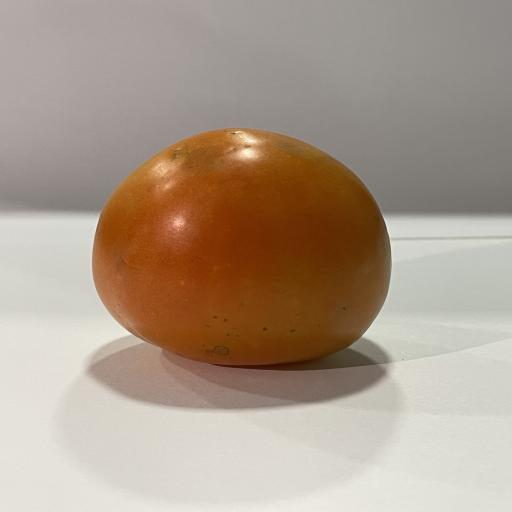unripe: (93, 128, 391, 365)
